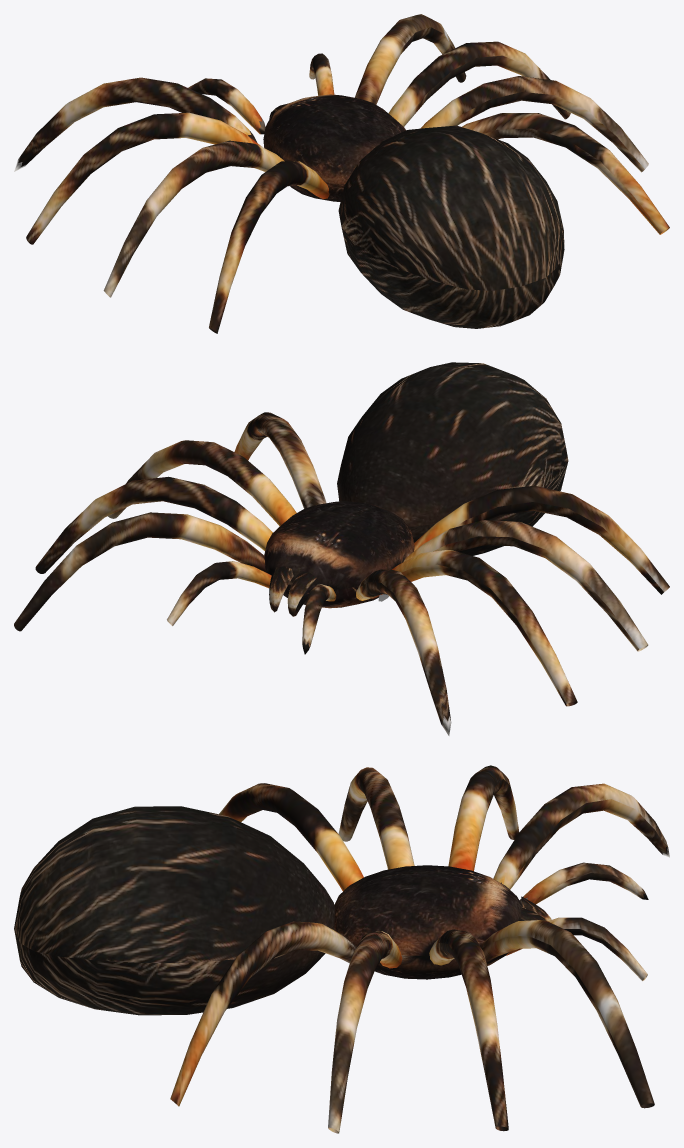
Rendered from Spider.fbx.
The picture shows the model from 3 angles, top to bottom: view 1: azimuth 30°, elevation 25°; view 2: azimuth 150°, elevation 25°; view 3: azimuth 270°, elevation 25°; orthographic projection. The views are drawn at different scales.
Parts seen in each view (by area): view 1: Sphere.001; view 2: Sphere.001; view 3: Sphere.001.
Part boxes in pixels (x1=…): Sphere.001: x1=14, y1=14, x2=669, y2=333; Sphere.001: x1=14, y1=362, x2=669, y2=735; Sphere.001: x1=14, y1=765, x2=669, y2=1133.
Size of the model in its own units: 501 by 143 by 461.
